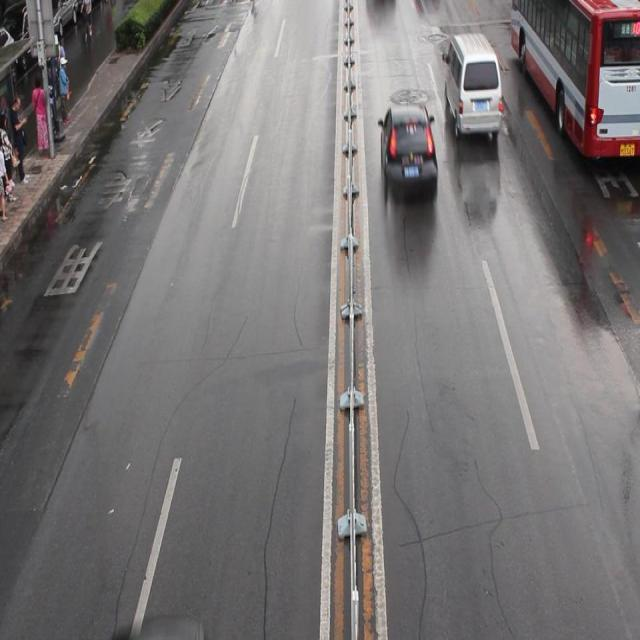car: (380, 104, 437, 194)
truck: (446, 32, 502, 142)
van: (507, 1, 640, 159)
